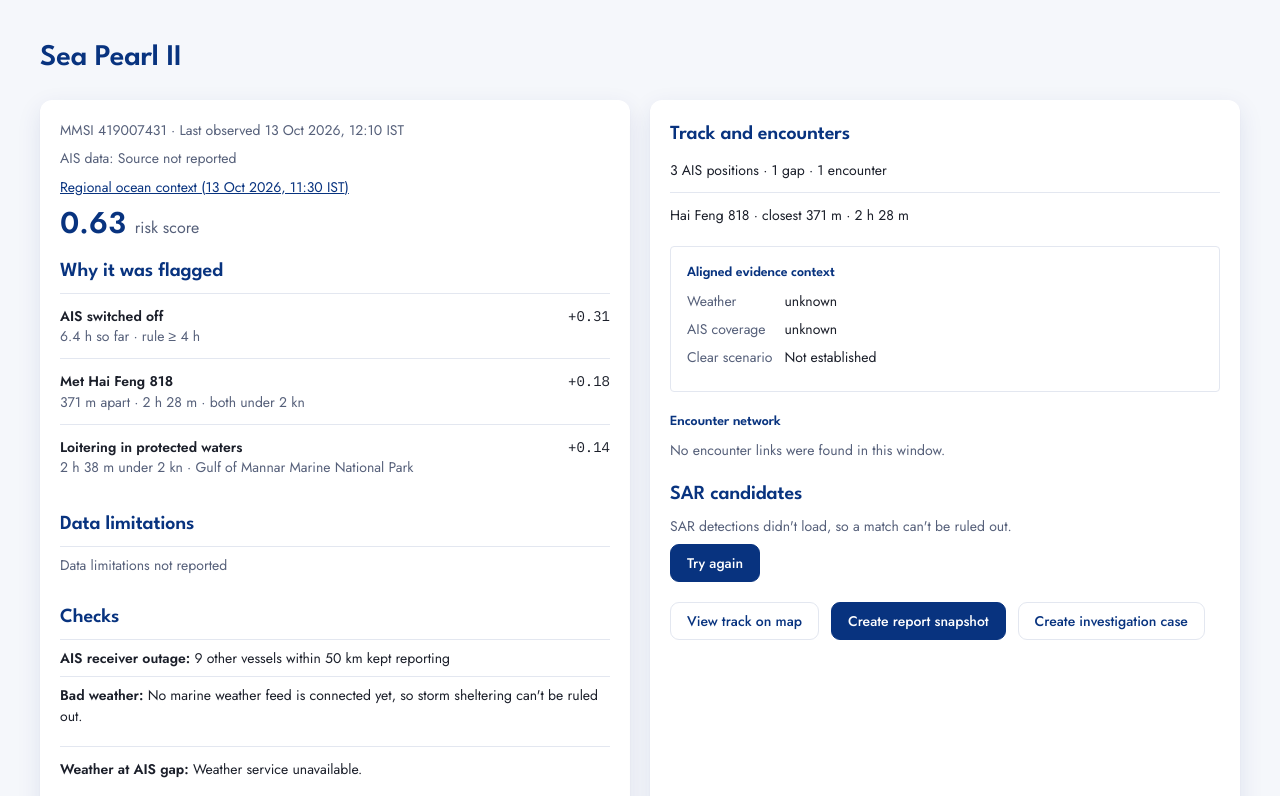
Test: Cases / EvidencePage & ReportsPage › shows failure when SAR request fails, repeats only SAR on retry, and shows data when retry succeeds
expect the message reads "SAR detections didn't load, so a match can't be ruled out.": met, box x1=670 y1=516 x2=1012 y2=536
Click the button "Try again" at (715,564), box x1=670 y1=544 x2=760 y2=582
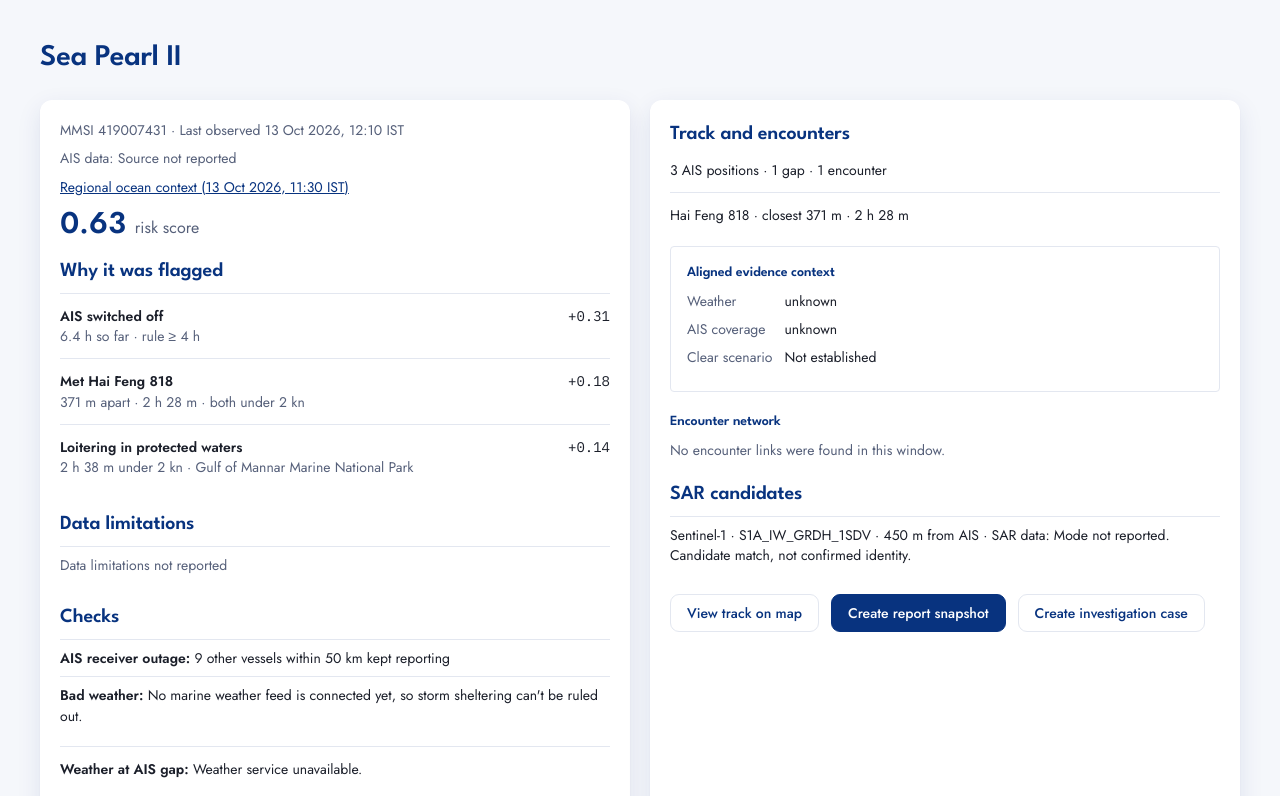
expect the text "Sentinel-1 · S1A_IW_GRDH_1SDV · 450 m from AIS" is shown: met, box x1=670 y1=516 x2=1220 y2=574
expect the text "SAR detections didn't load, so a match can't be ruled out." is gone: met
